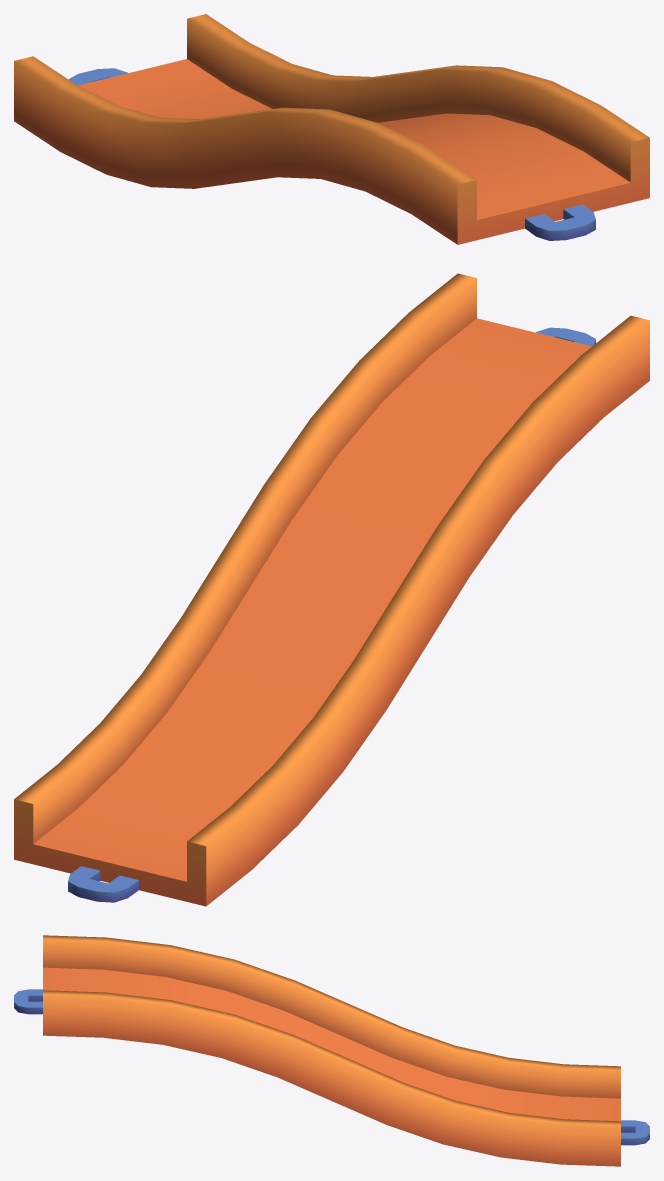
The model's file is kenney-toy-car-track-narrow-straight-hill-complete.glb.
The picture shows the model from 3 angles, top to bottom: view 1: azimuth 30°, elevation 25°; view 2: azimuth 150°, elevation 25°; view 3: azimuth 270°, elevation 25°; orthographic projection. The views are drawn at different scales.
Parts seen in each view (by area): view 1: track-narrow-straight-hill-complete; view 2: track-narrow-straight-hill-complete; view 3: track-narrow-straight-hill-complete.
Boxes of the visible parts, x1,y1,x2,y2 form: track-narrow-straight-hill-complete: (14, 14, 649, 244); track-narrow-straight-hill-complete: (14, 273, 649, 906); track-narrow-straight-hill-complete: (14, 935, 649, 1166).
Size of the model in its own units: 1 by 1.3 by 4.4.
Materials: 1 (1 with a texture image).
